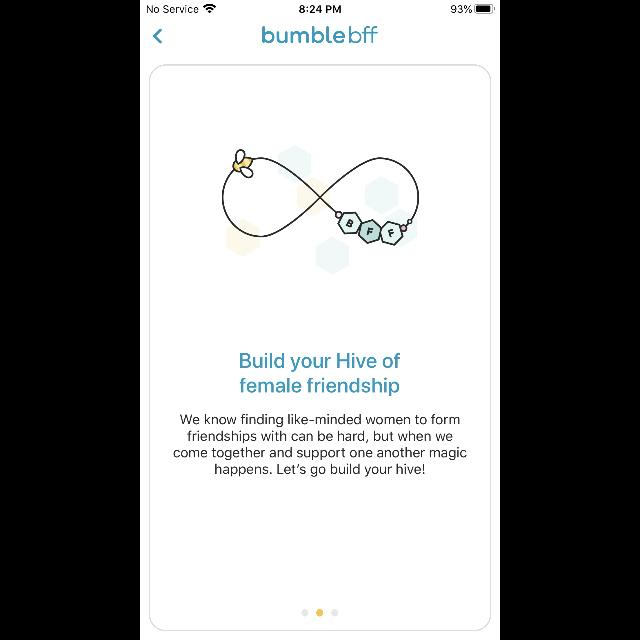icon: (154, 28, 162, 44)
image: (222, 146, 420, 274)
pageindicator: (302, 610, 338, 616)
text: (174, 414, 466, 476), (240, 352, 400, 396), (262, 26, 378, 44)
uppertaskbar: (140, 0, 500, 14)
